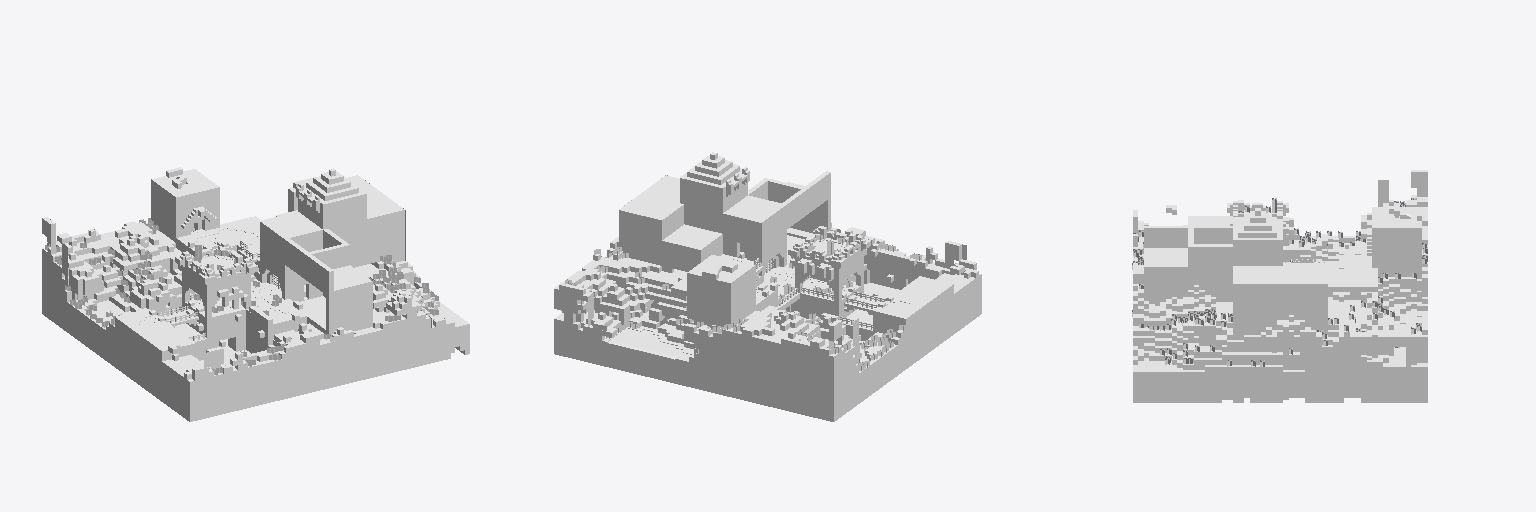
The model's file is slabcity.obj.
3 renders of one model, left to right at view 1: azimuth 30°, elevation 25°; view 2: azimuth 150°, elevation 25°; view 3: azimuth 270°, elevation 25°, orthographic.
Visible parts, largest first — view 1: Etho's_LP_Ep550__250_58_-962_to_307_97_-910; view 2: Etho's_LP_Ep550__250_58_-962_to_307_97_-910; view 3: Etho's_LP_Ep550__250_58_-962_to_307_97_-910.
Part boxes in pixels (x1,y1,x2,y2): Etho's_LP_Ep550__250_58_-962_to_307_97_-910: (42, 167, 469, 421); Etho's_LP_Ep550__250_58_-962_to_307_97_-910: (554, 152, 981, 421); Etho's_LP_Ep550__250_58_-962_to_307_97_-910: (1132, 170, 1427, 402).
Size of the model in its own units: 58.2 by 31 by 53.22.